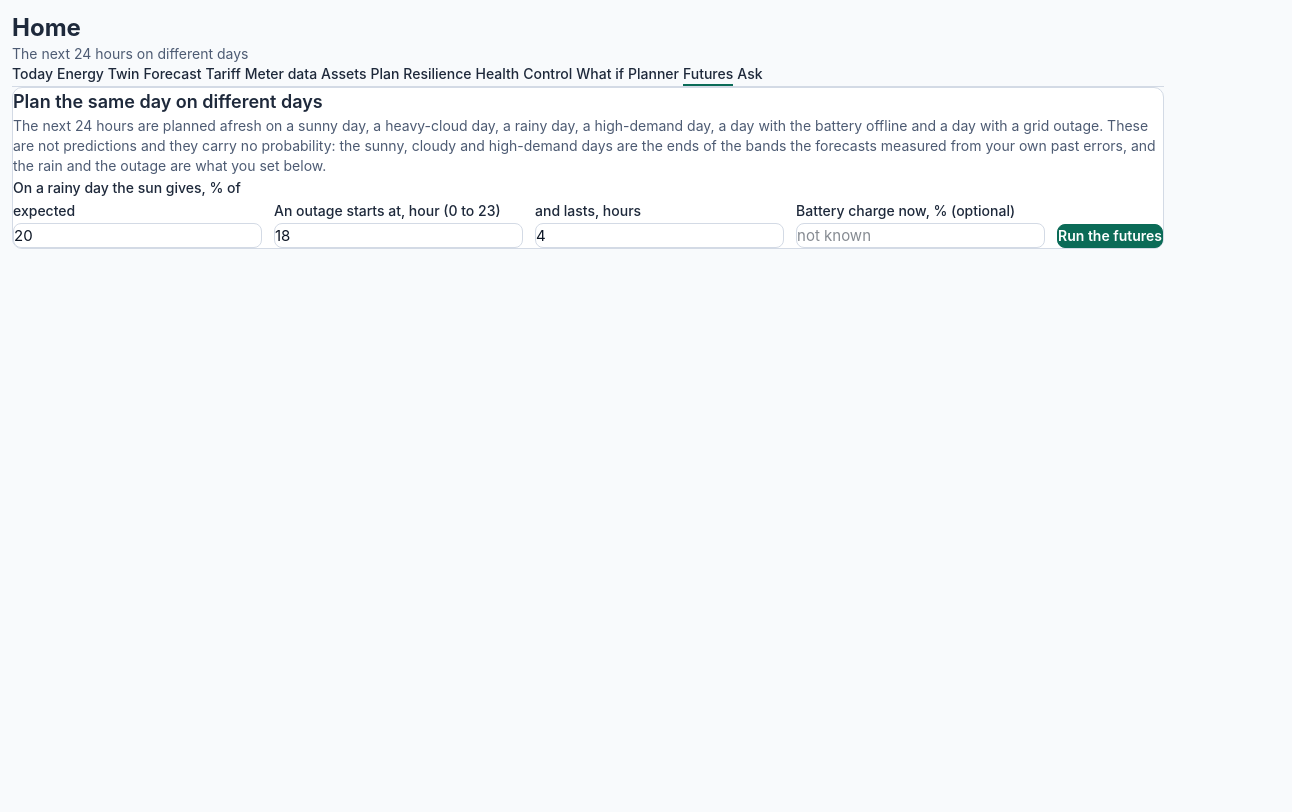
Test: FuturesView › sends what was set, runs the days, and shows each with what it is built from and what it cost
The width and height of the screenshot is (1292, 812).
Replace the text in the field labelled "On a rainy day the sun gives, % of expected" with "35". click: (138, 235)
box: [13, 222, 262, 248]
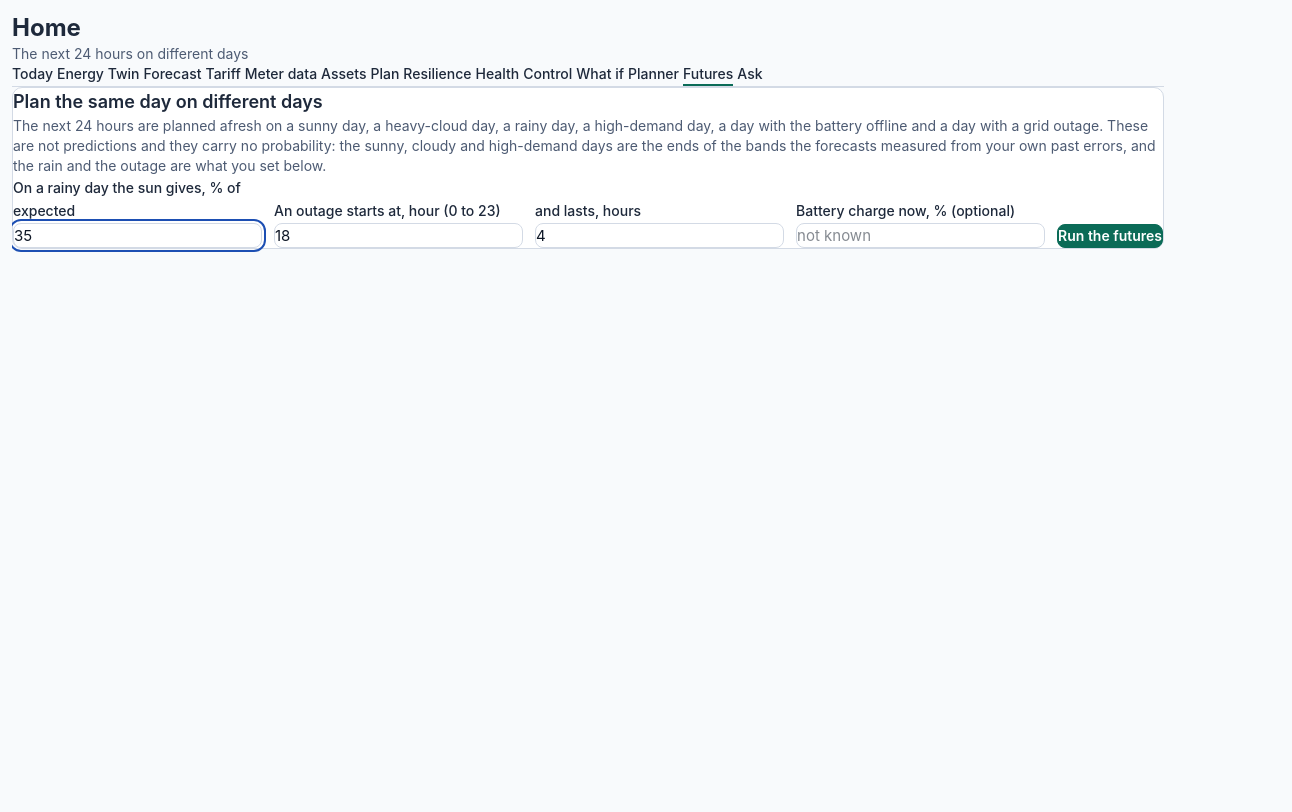
Click the button "Run the futures". click: (1110, 236)
box: [1057, 224, 1163, 248]
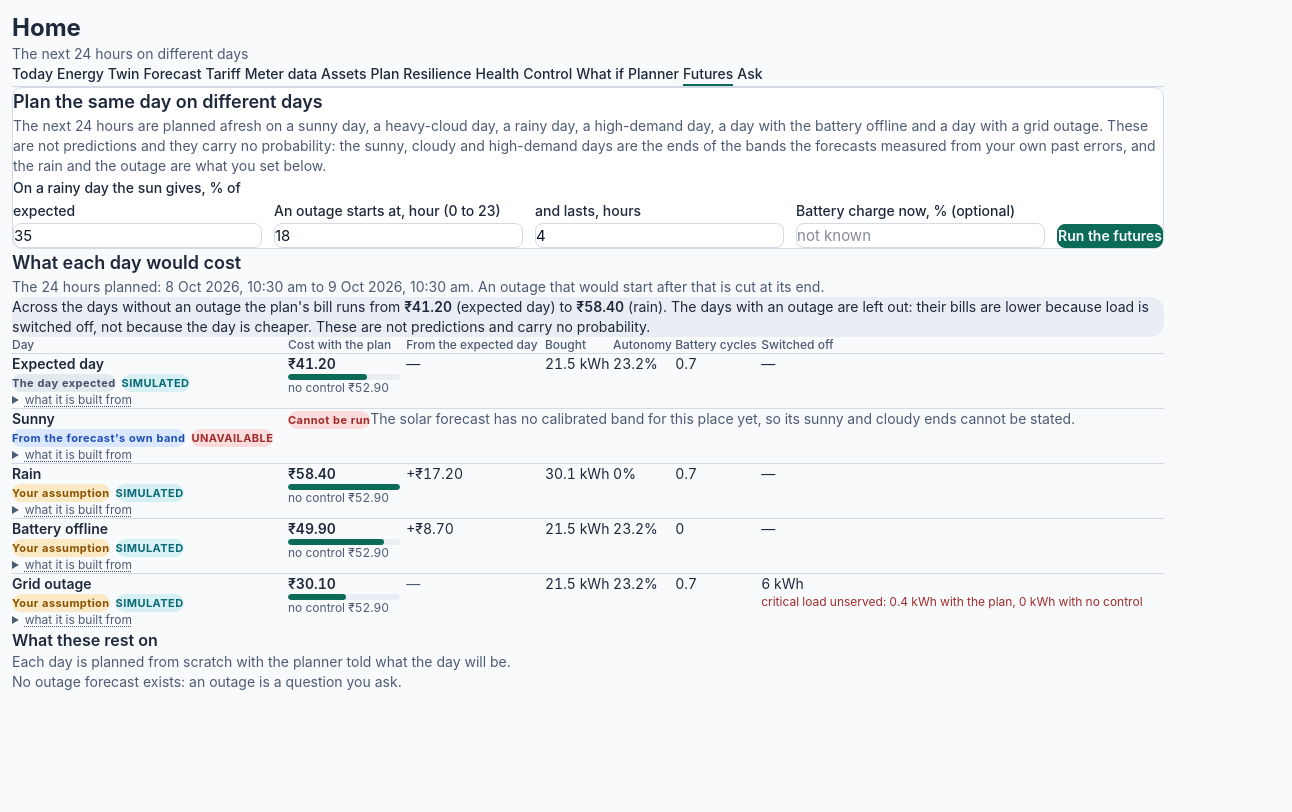
Now the heading "What each day would cost" is shown, box [12, 252, 241, 273]
Now the number of rows is 6, box [12, 337, 1164, 353]; [12, 353, 1164, 408]; [12, 408, 1164, 463]; [12, 463, 1164, 518]; [12, 518, 1164, 573]; [12, 573, 1164, 628]
Now the text "Rain" is shown, box [12, 465, 41, 482]
